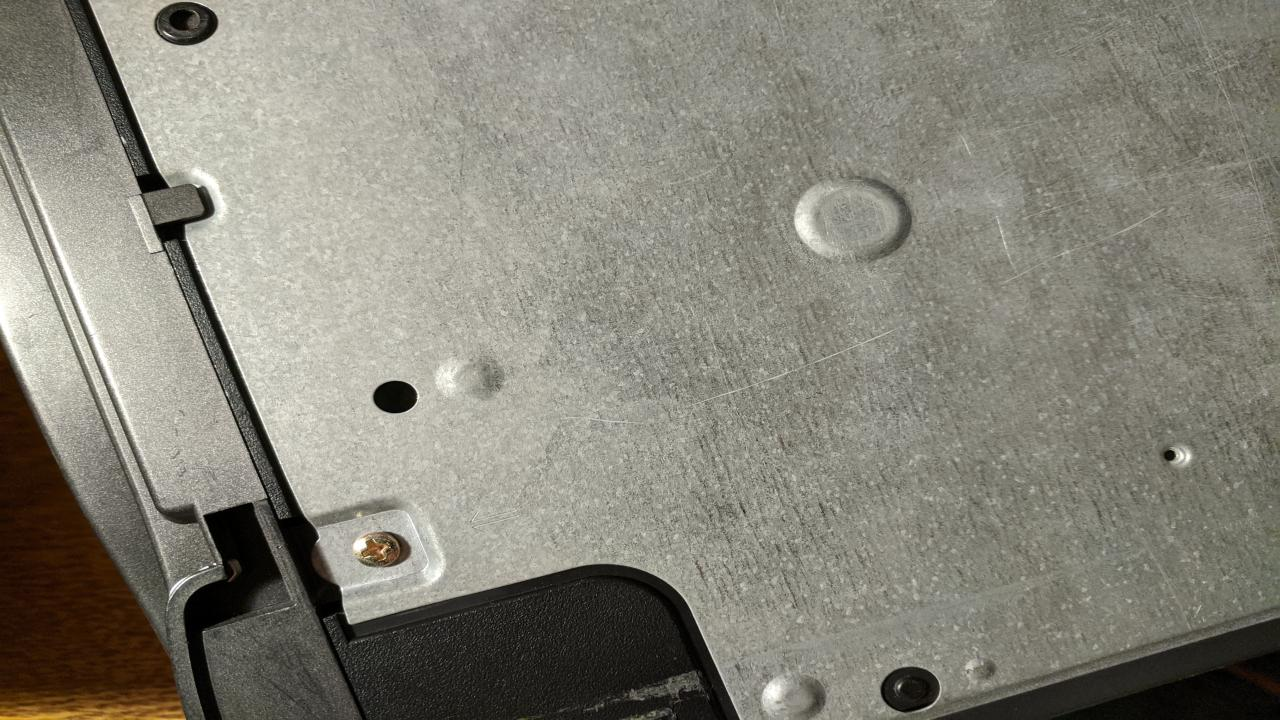CRS: (350, 530, 403, 568)
